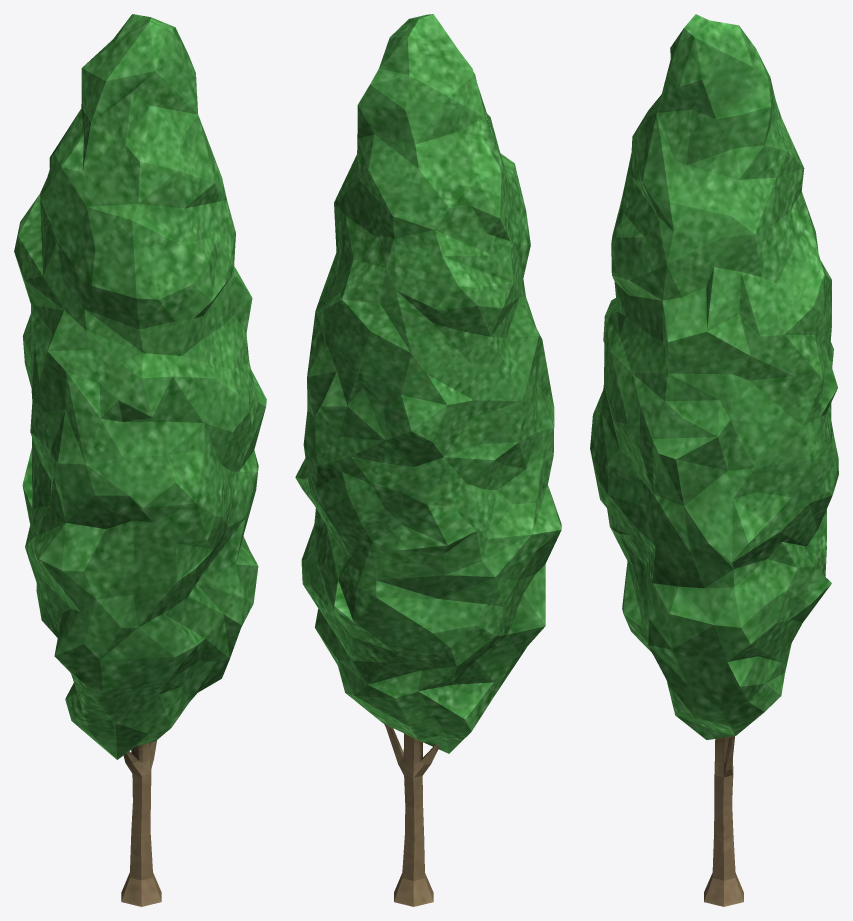
File: kavak.glb
3 renders of one model, left to right at view 1: azimuth 30°, elevation 25°; view 2: azimuth 150°, elevation 25°; view 3: azimuth 270°, elevation 25°, orthographic.
Parts seen in each view (by area): view 1: PoplarTree_Mesh; view 2: PoplarTree_Mesh; view 3: PoplarTree_Mesh.
Part boxes in pixels (x1,y1,x2,y2): PoplarTree_Mesh: [14, 14, 266, 906]; PoplarTree_Mesh: [295, 14, 561, 906]; PoplarTree_Mesh: [590, 14, 838, 906].
Bounding box in the file's own units: 3.56 × 12.79 × 3.28.
1 material, 1 textured.
